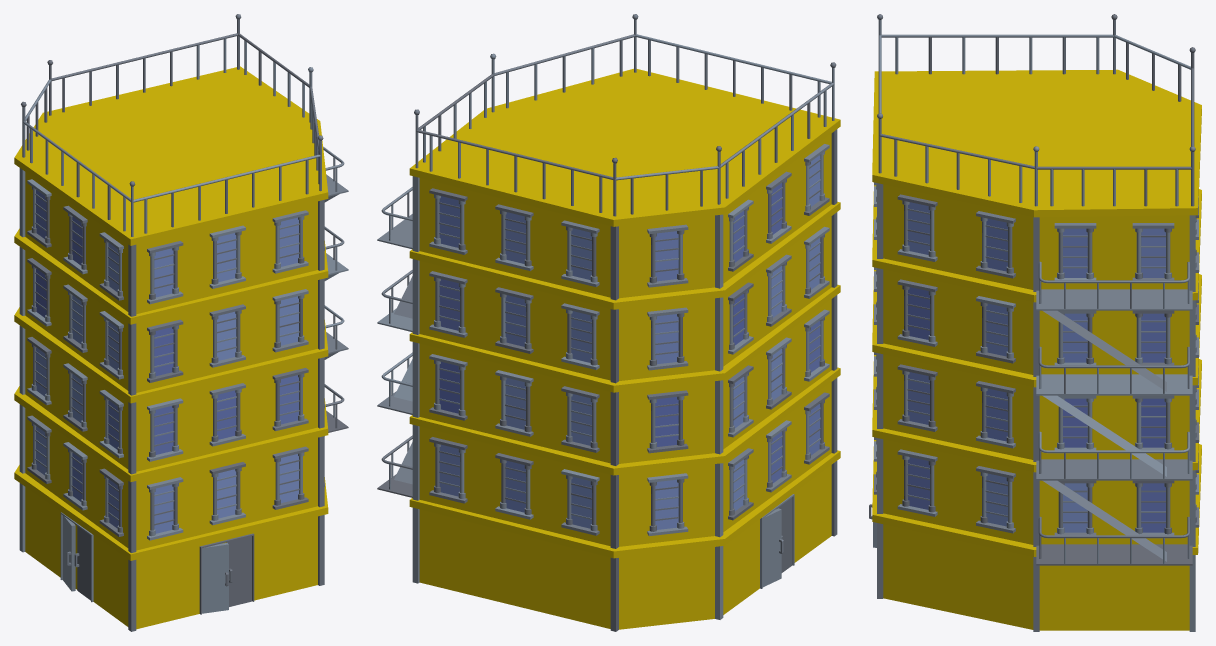
Rendered from Building Procedural.009.fbx.
The picture shows the model from 3 angles, left to right: view 1: azimuth 30°, elevation 25°; view 2: azimuth 150°, elevation 25°; view 3: azimuth 270°, elevation 25°; orthographic projection. The views are drawn at different scales.
Visible parts, largest first — view 1: Building Procedural.009; view 2: Building Procedural.009; view 3: Building Procedural.009.
Part boxes in pixels (bbox=[...]): Building Procedural.009: bbox=[14, 14, 348, 631]; Building Procedural.009: bbox=[377, 14, 840, 631]; Building Procedural.009: bbox=[869, 14, 1201, 631].
Bounding box in the file's own units: 1187 × 1710 × 1065.
